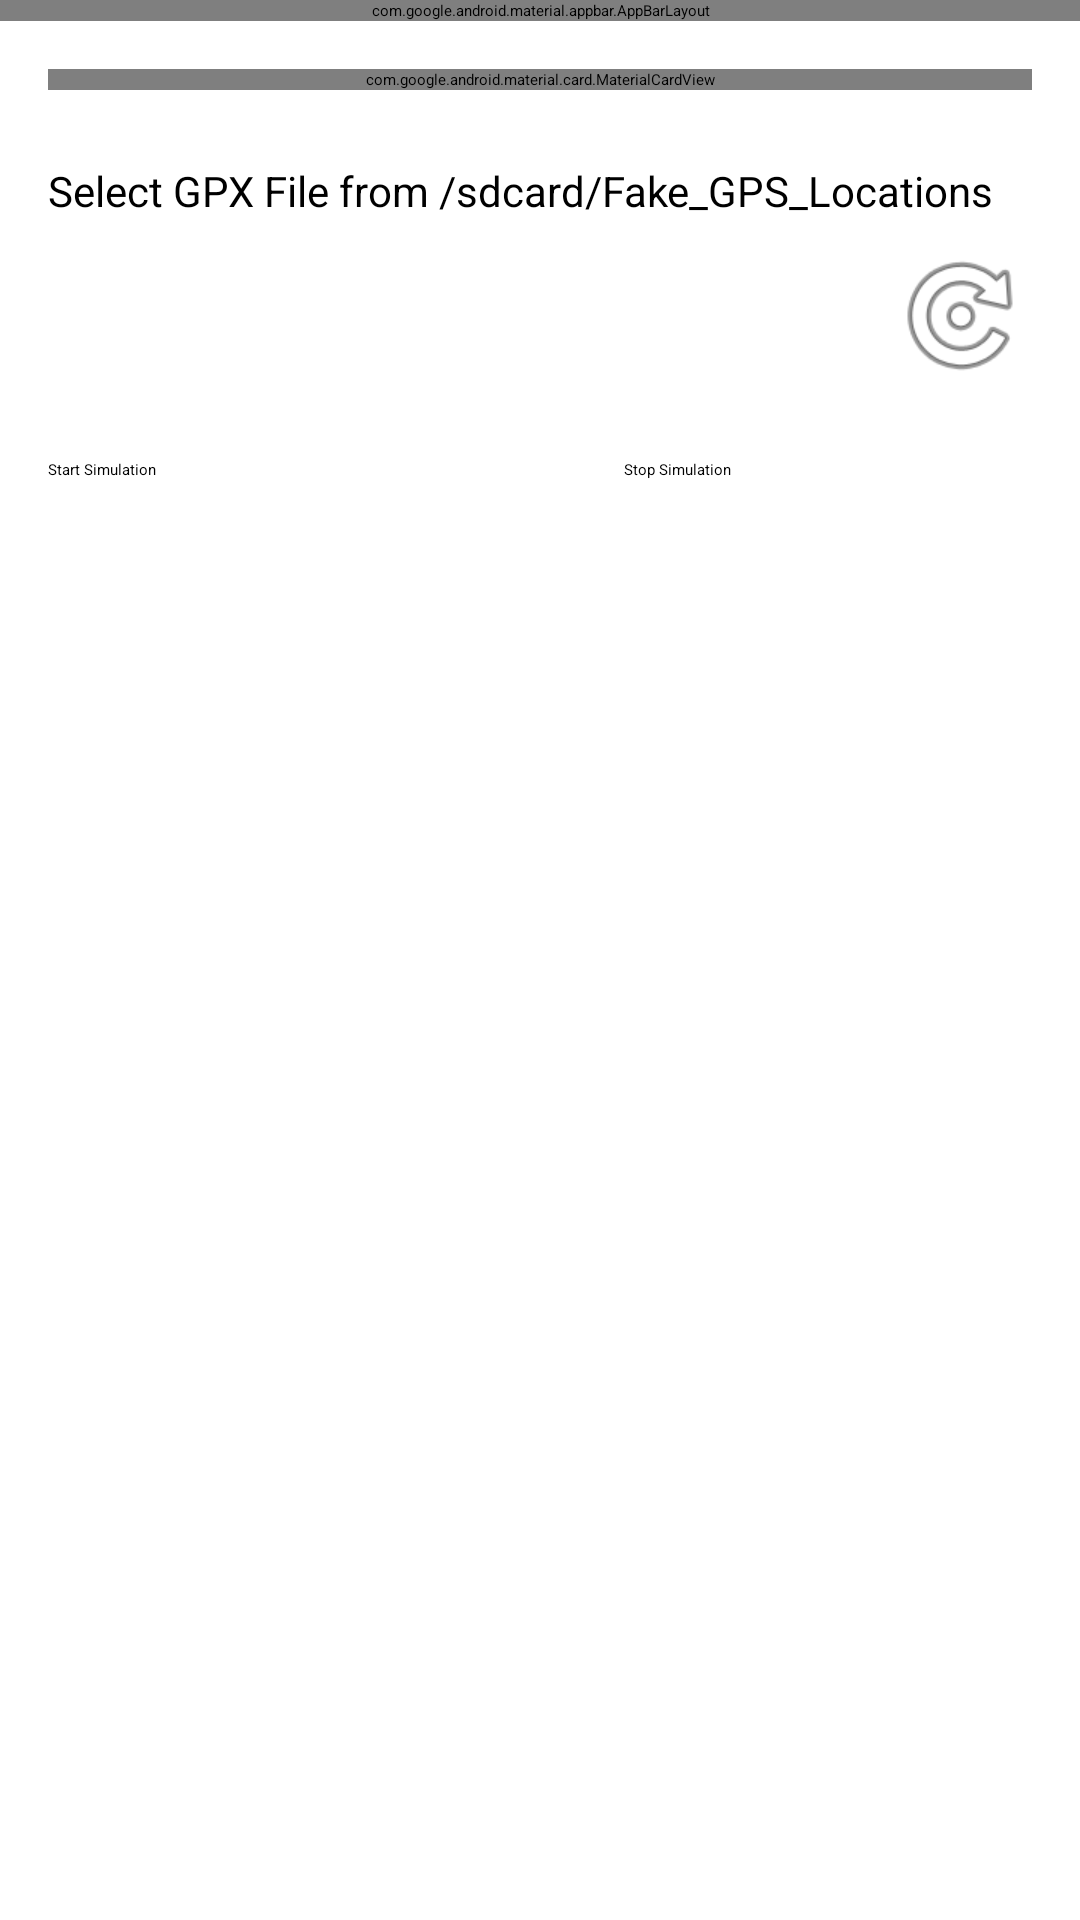

Named icons in this screenshot (1080w x 1920h) and their bounding boxes, (x1,y1,x2,y2):
Refresh folder: (907,262,1013,370)
